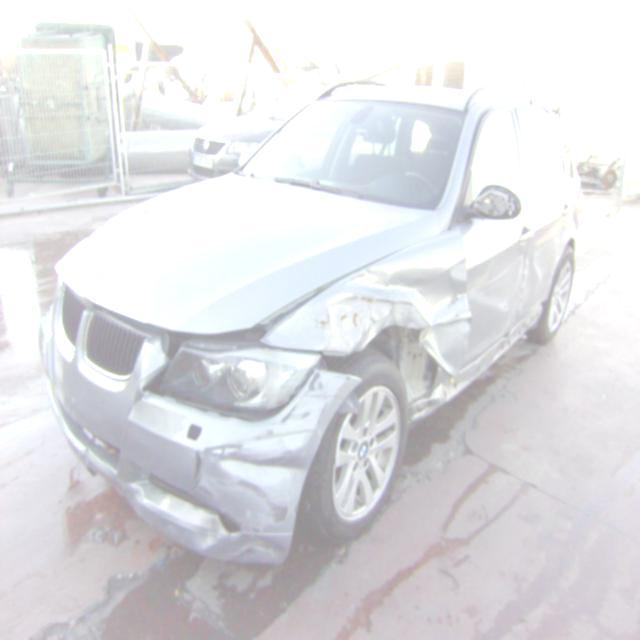minor: (190, 258, 472, 518)
